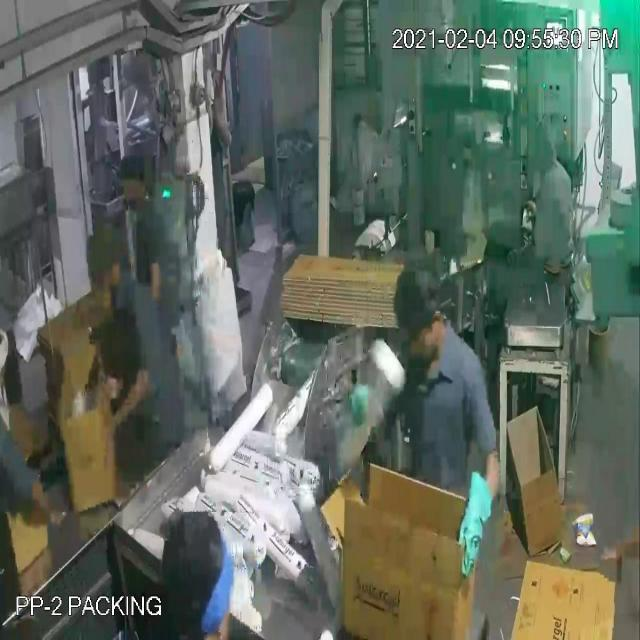No_Gloves: (24, 60, 478, 538)
